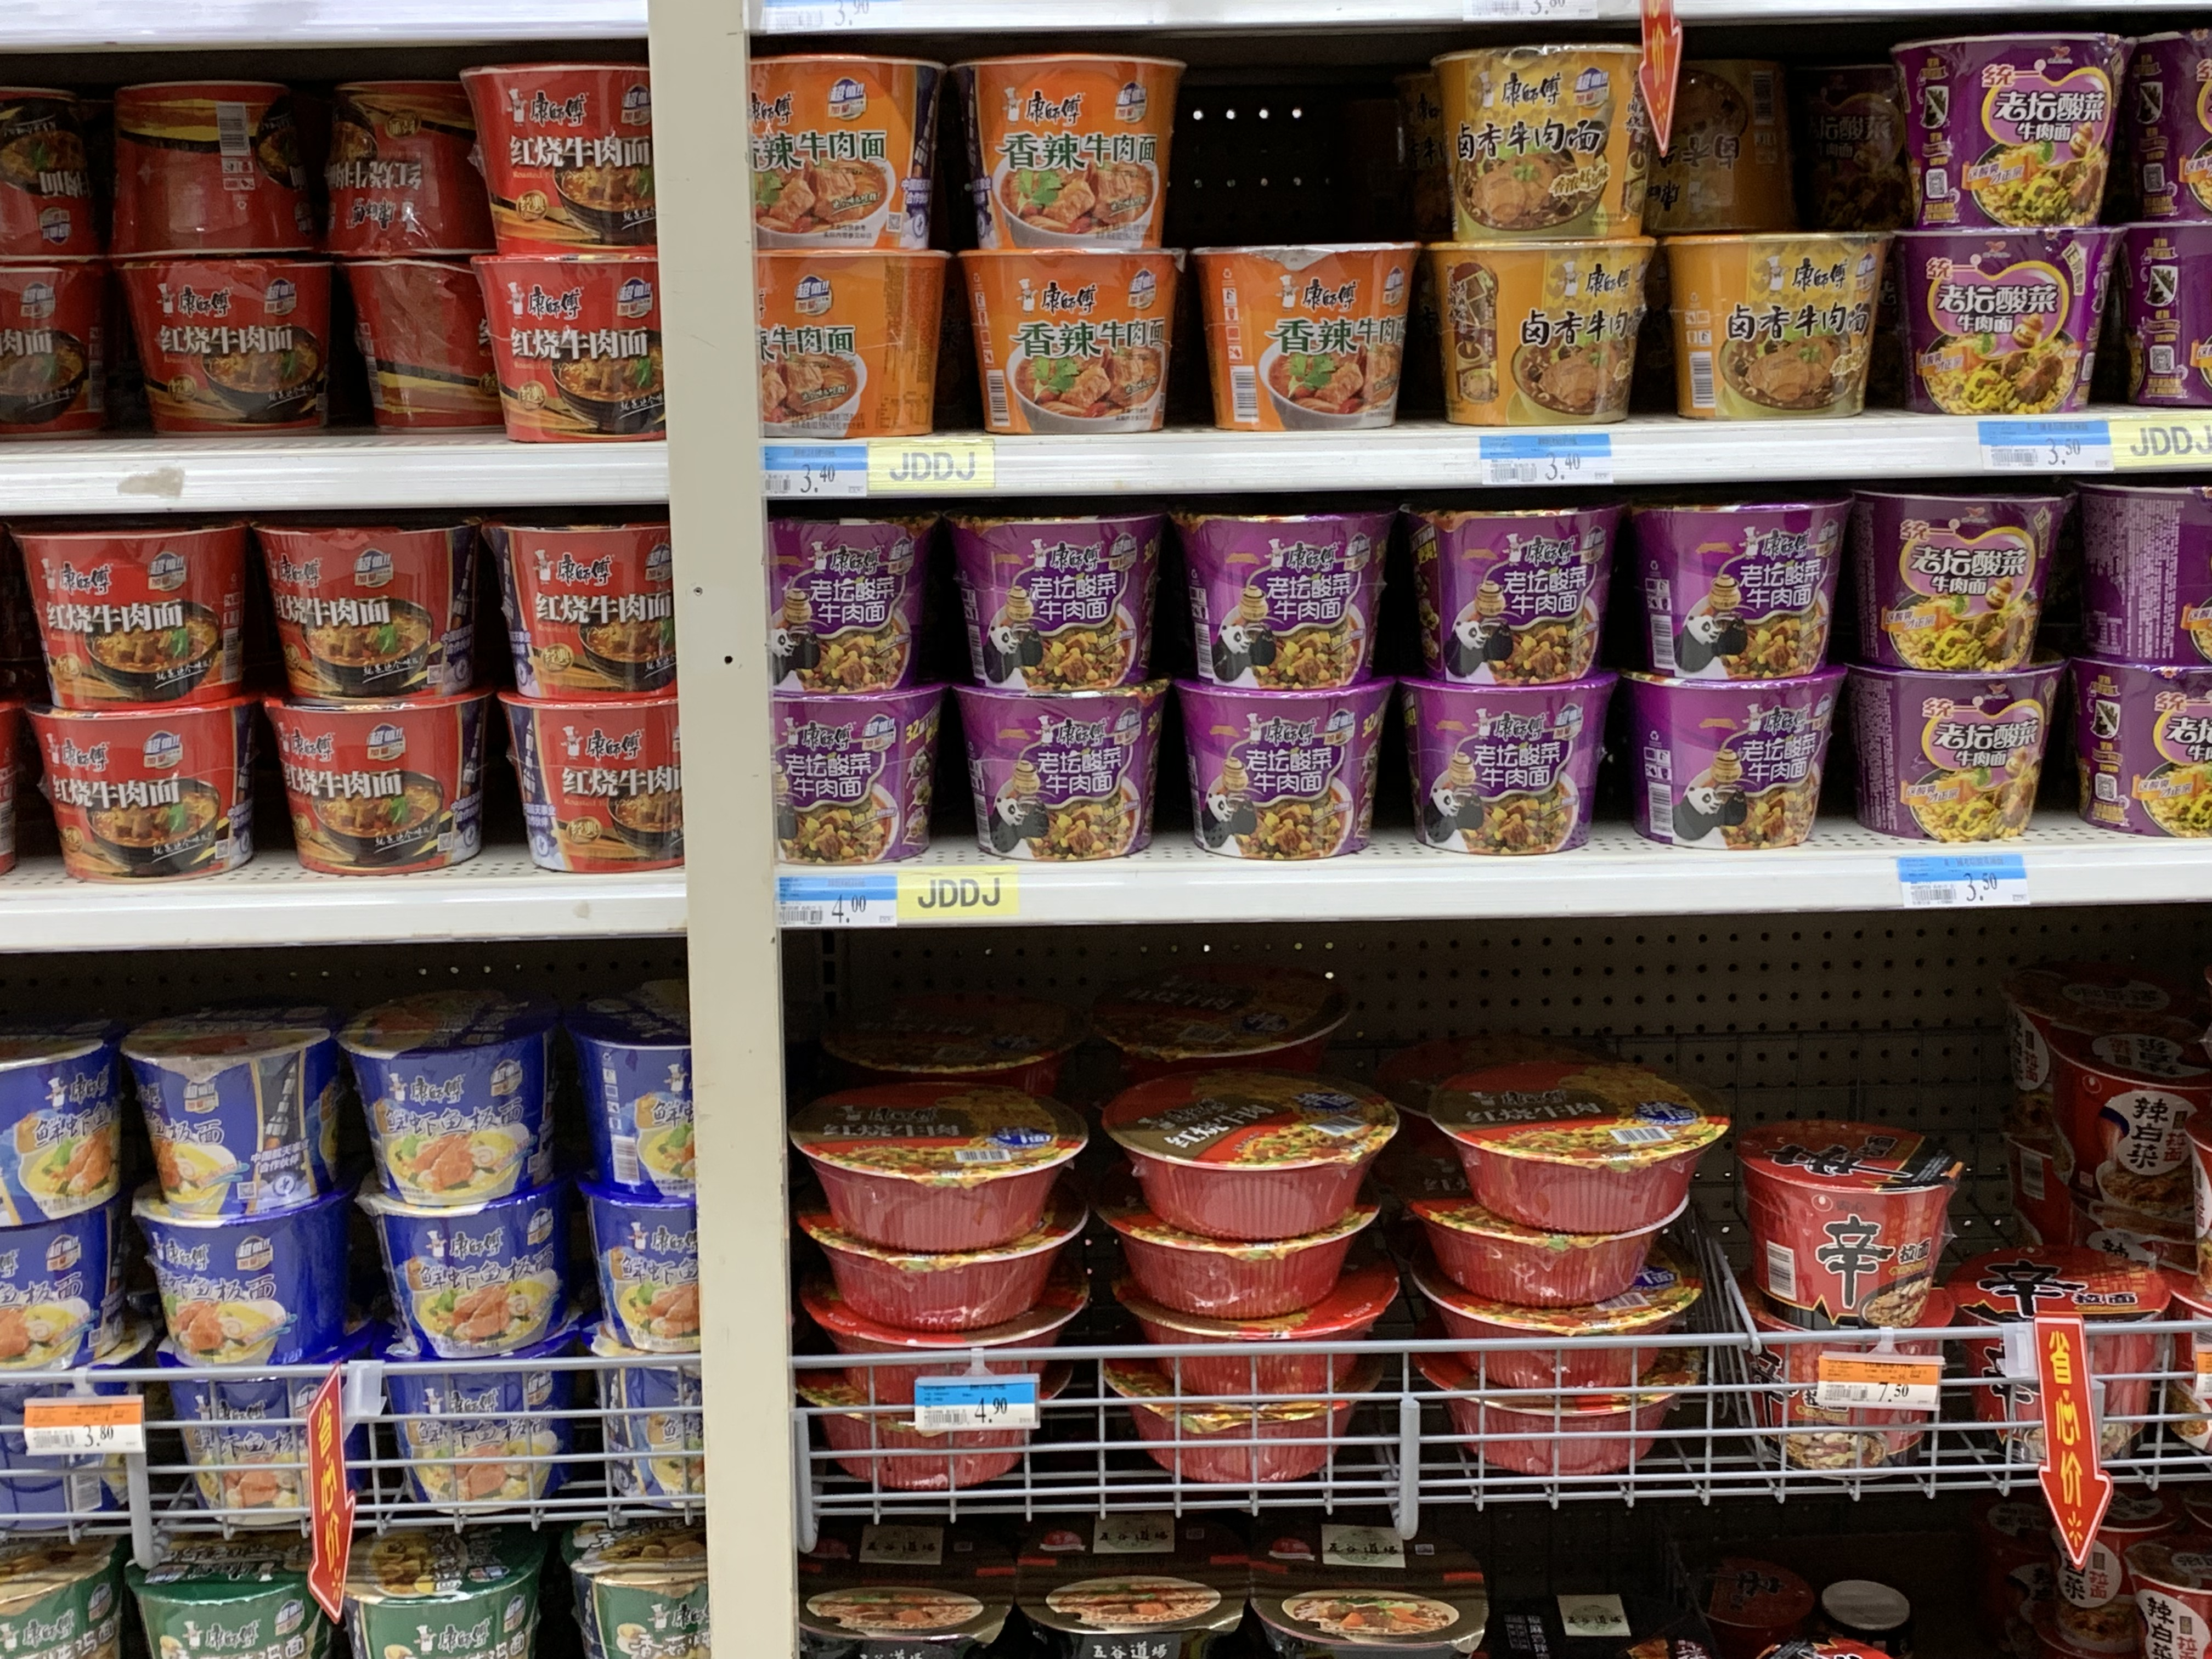luxiang: (1663, 232, 1898, 425), (1428, 47, 1660, 242), (1428, 242, 1663, 429)
xiangla: (1188, 242, 1435, 434), (948, 54, 1188, 247), (958, 246, 1190, 437), (745, 56, 949, 251), (752, 249, 953, 439)
